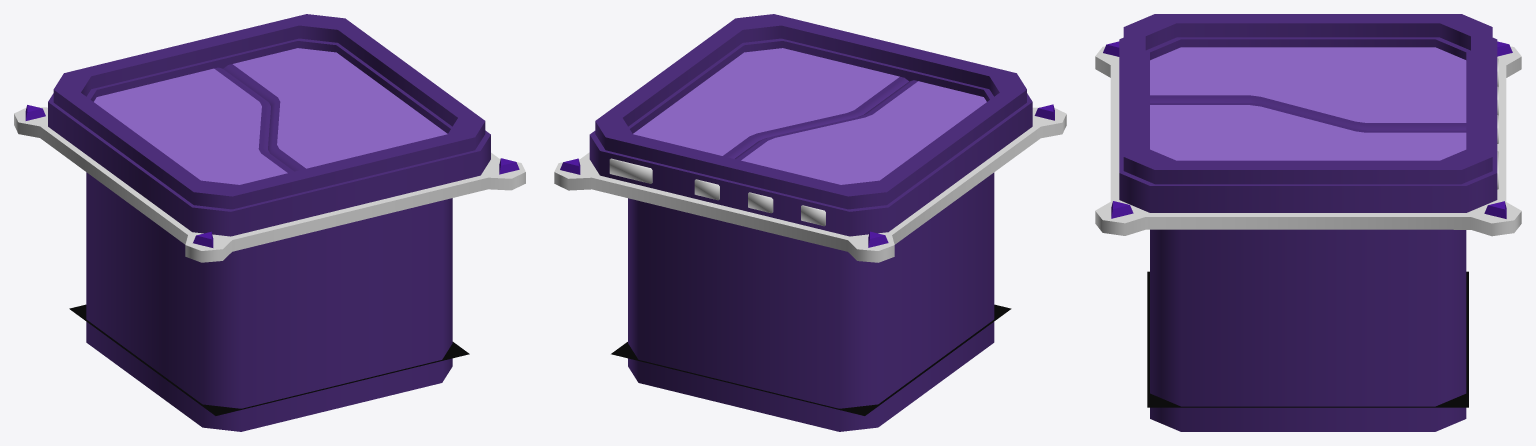
Rendered from SM_door_1.fbx.
The picture shows the model from 3 angles, left to right: view 1: azimuth 30°, elevation 25°; view 2: azimuth 150°, elevation 25°; view 3: azimuth 270°, elevation 25°; orthographic projection. The views are drawn at different scales.
Parts seen in each view (by area): view 1: SM_door_1, SM_door_1_2, SM_door_1_1; view 2: SM_door_1, SM_door_1_2, SM_door_1_1; view 3: SM_door_1, SM_door_1_1, SM_door_1_2.
Part boxes in pixels (box(x1,y1,x2,y2)): SM_door_1: box(14, 14, 525, 431); SM_door_1_2: box(223, 48, 447, 171); SM_door_1_1: box(94, 67, 294, 184); SM_door_1: box(554, 14, 1066, 431); SM_door_1_2: box(633, 48, 908, 158); SM_door_1_1: box(735, 80, 986, 184); SM_door_1: box(1095, 14, 1521, 431); SM_door_1_1: box(1150, 47, 1466, 130); SM_door_1_2: box(1150, 103, 1466, 160).
Bounding box in the file's own units: 3.9 × 2.76 × 3.91.
